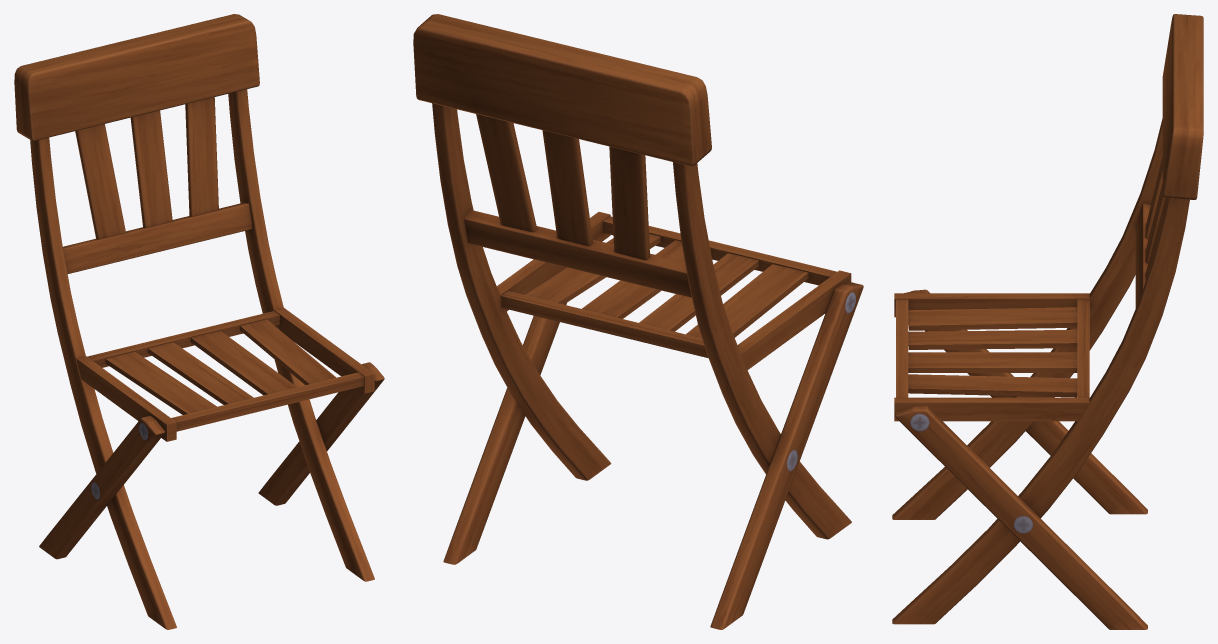
File: StreetCafeSet02_2.FBX
3 views of the same model, side by side, from view 1: azimuth 30°, elevation 25°; view 2: azimuth 150°, elevation 25°; view 3: azimuth 270°, elevation 25° (orthographic). The views are drawn at different scales.
Visible parts, largest first — view 1: StreetCafeSet02_2; view 2: StreetCafeSet02_2; view 3: StreetCafeSet02_2.
Part boxes in pixels (x1,y1,x2,y2): StreetCafeSet02_2: (14,14,384,629); StreetCafeSet02_2: (413,14,863,629); StreetCafeSet02_2: (892,14,1203,629).
Size of what is drawn, in the model's own units: 0.6731 by 1.29 by 0.7304.
